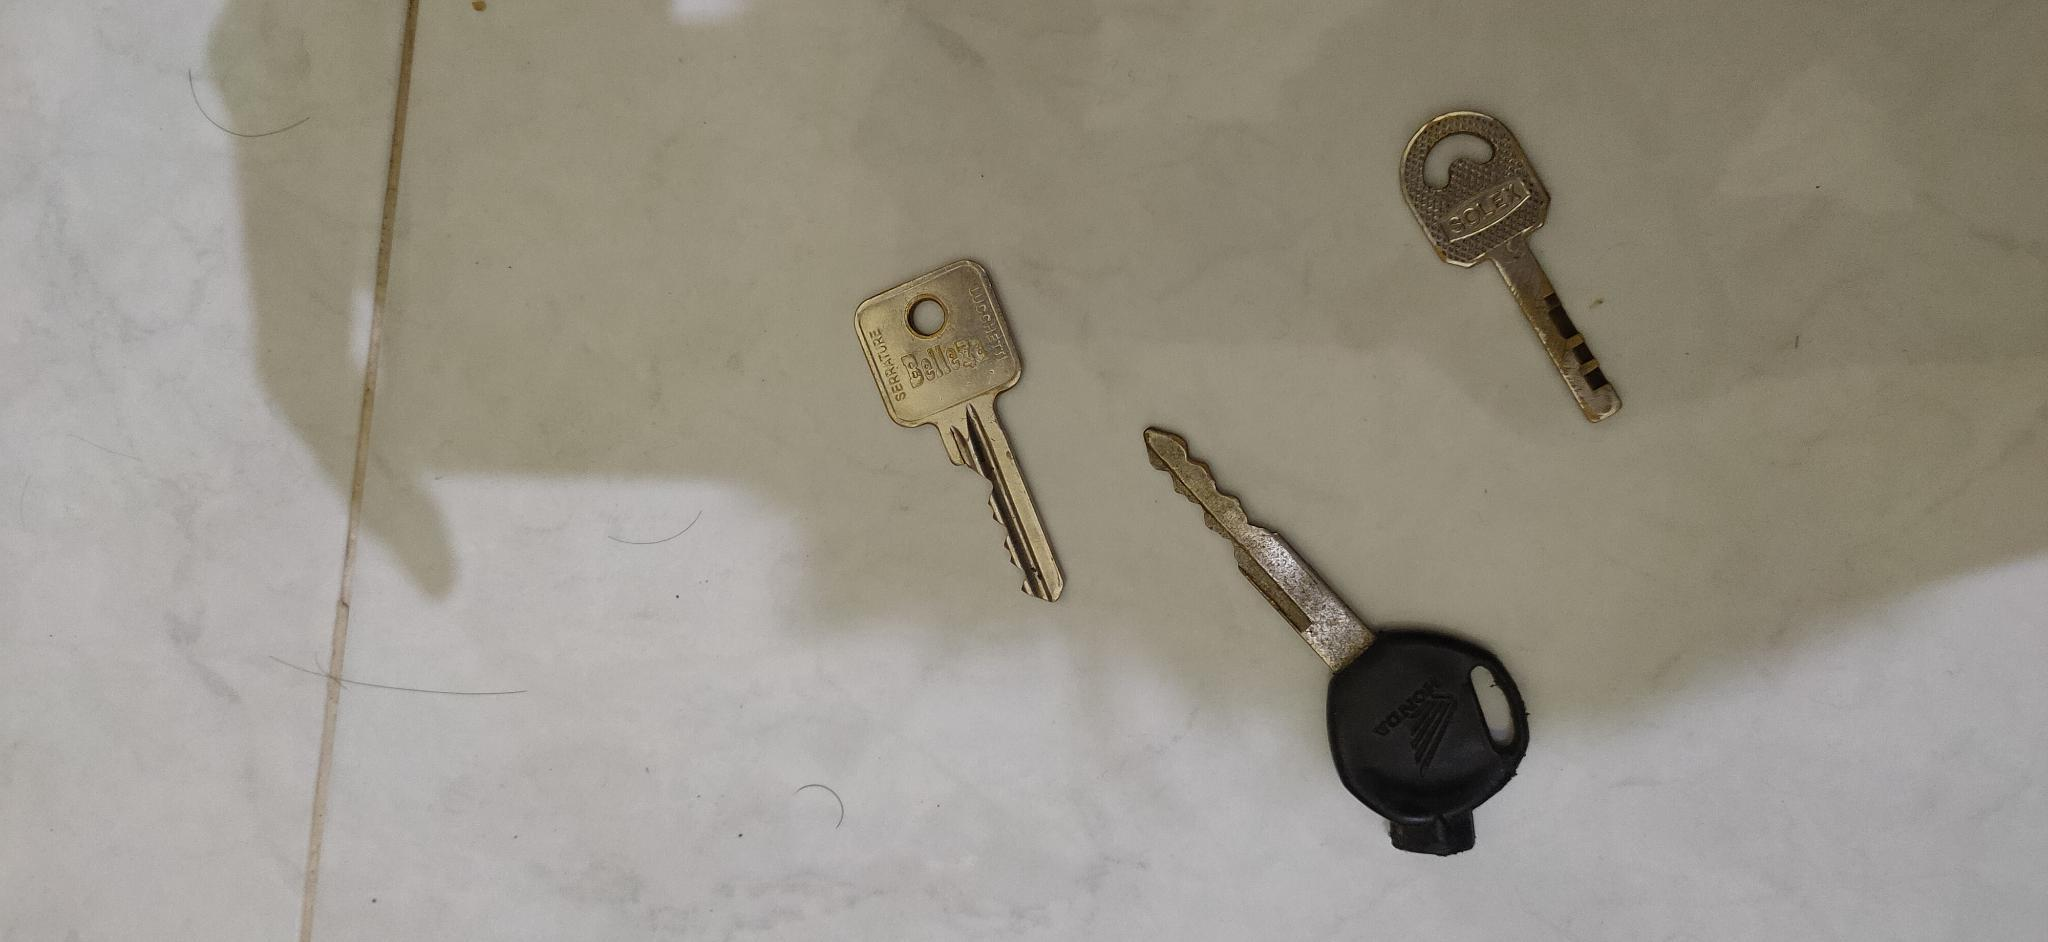keys: (1138, 417, 1533, 862), (1383, 98, 1638, 439), (845, 250, 1074, 608)
